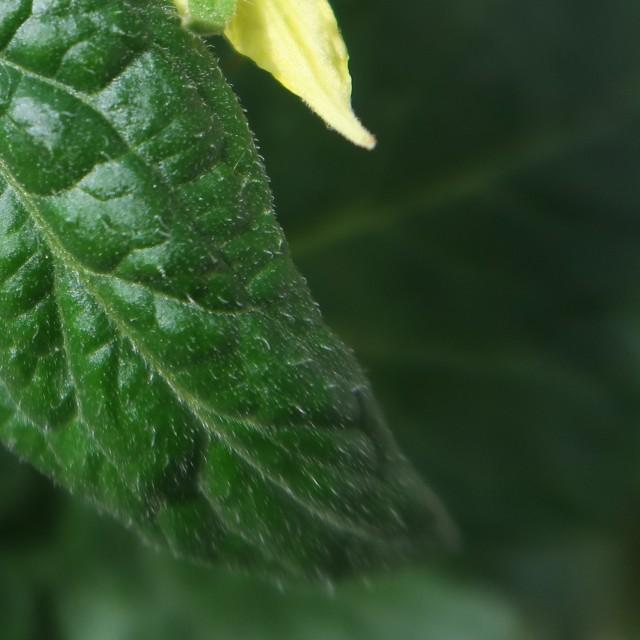Tomato leaf bacterial spot: (0, 0, 422, 597)
